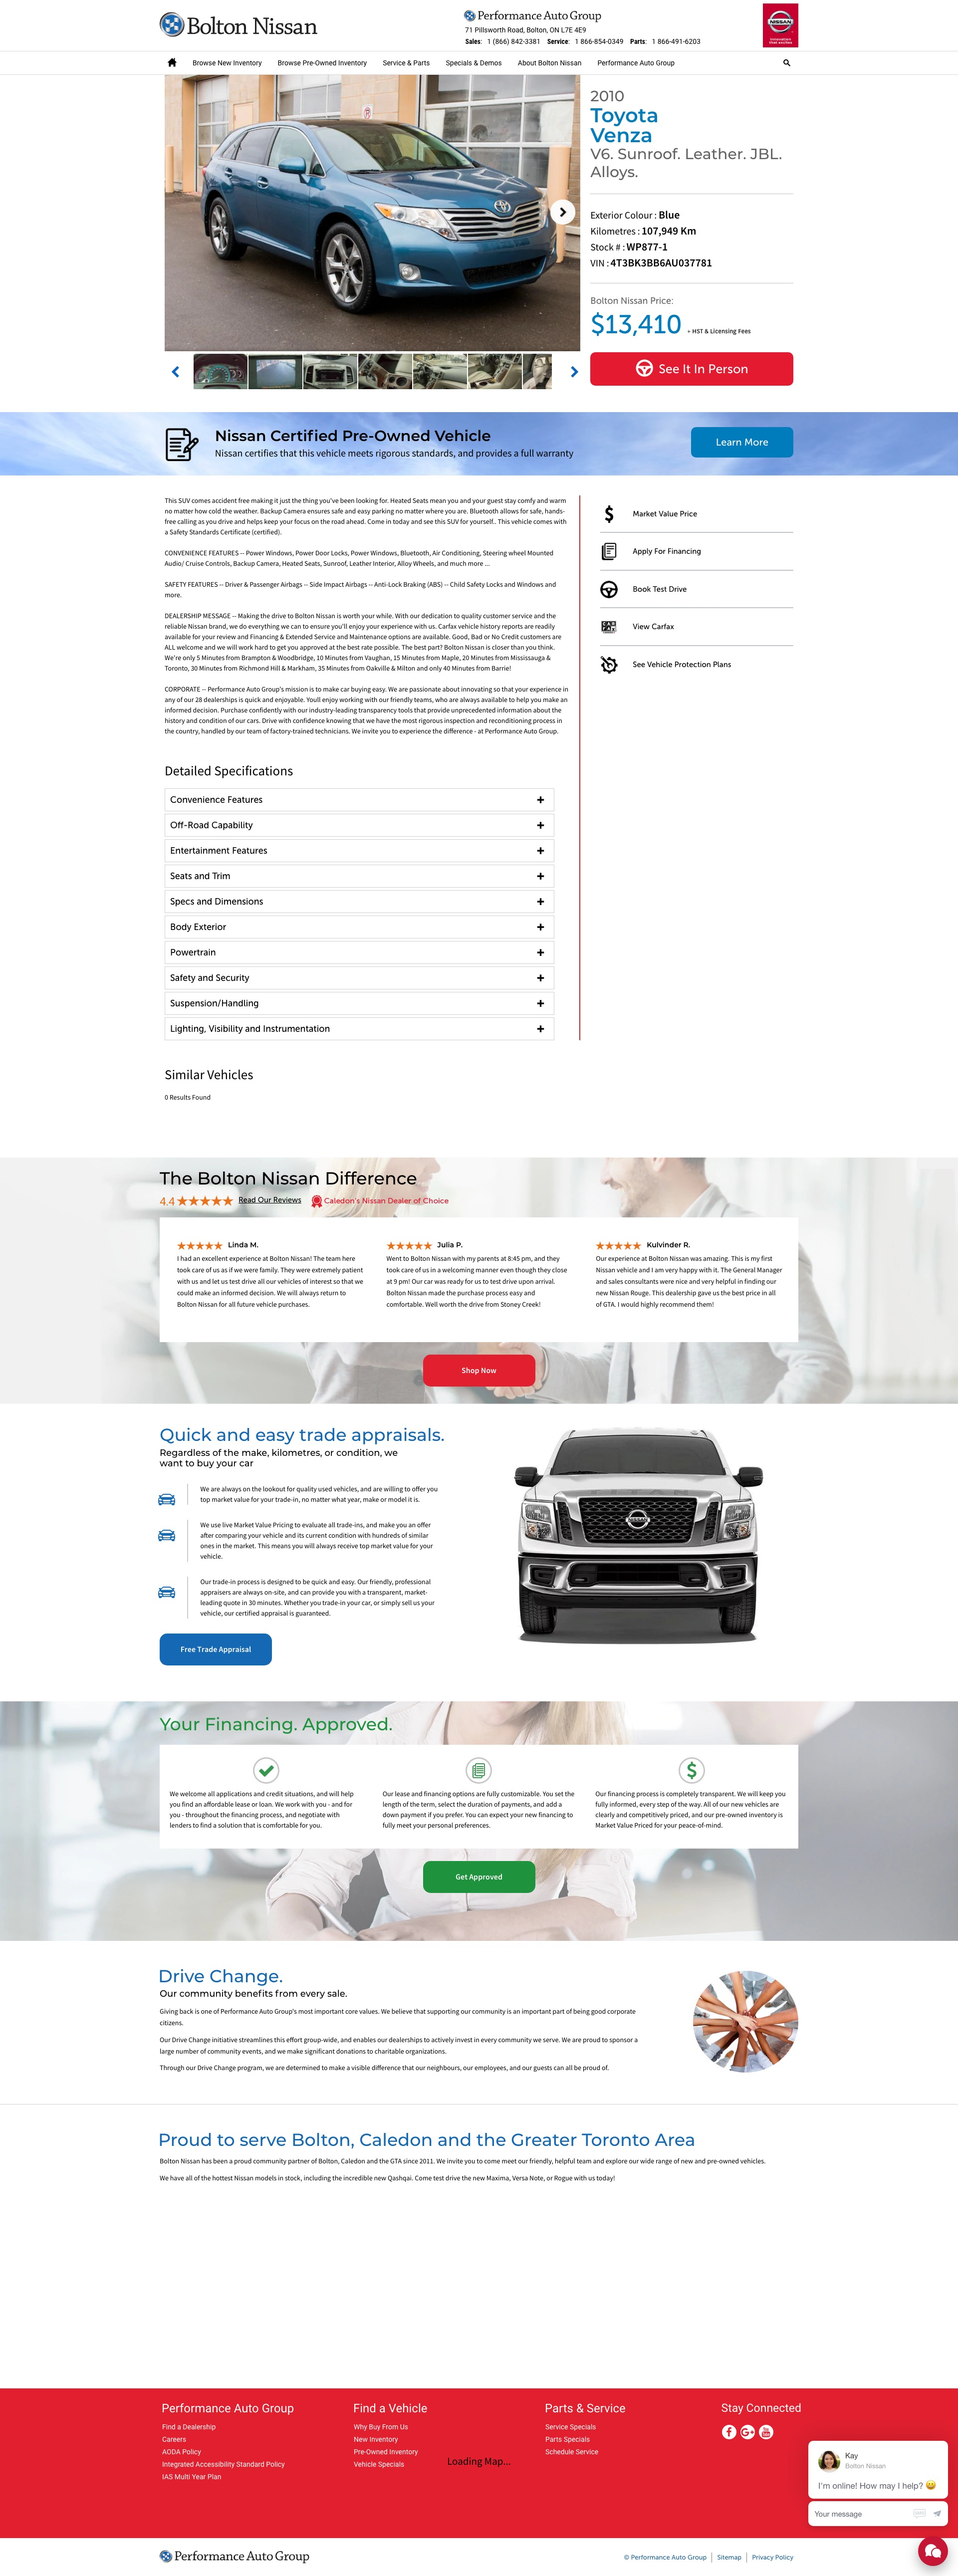car: (570, 366, 580, 378)
